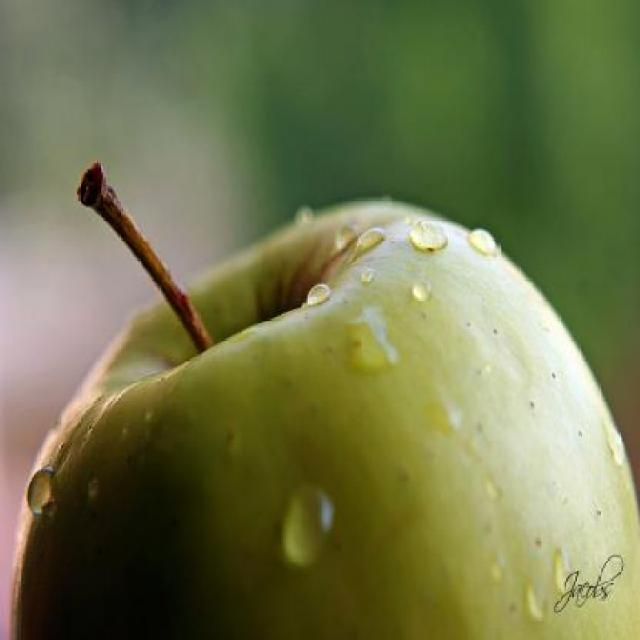Apple pie: (80, 170, 617, 639)
